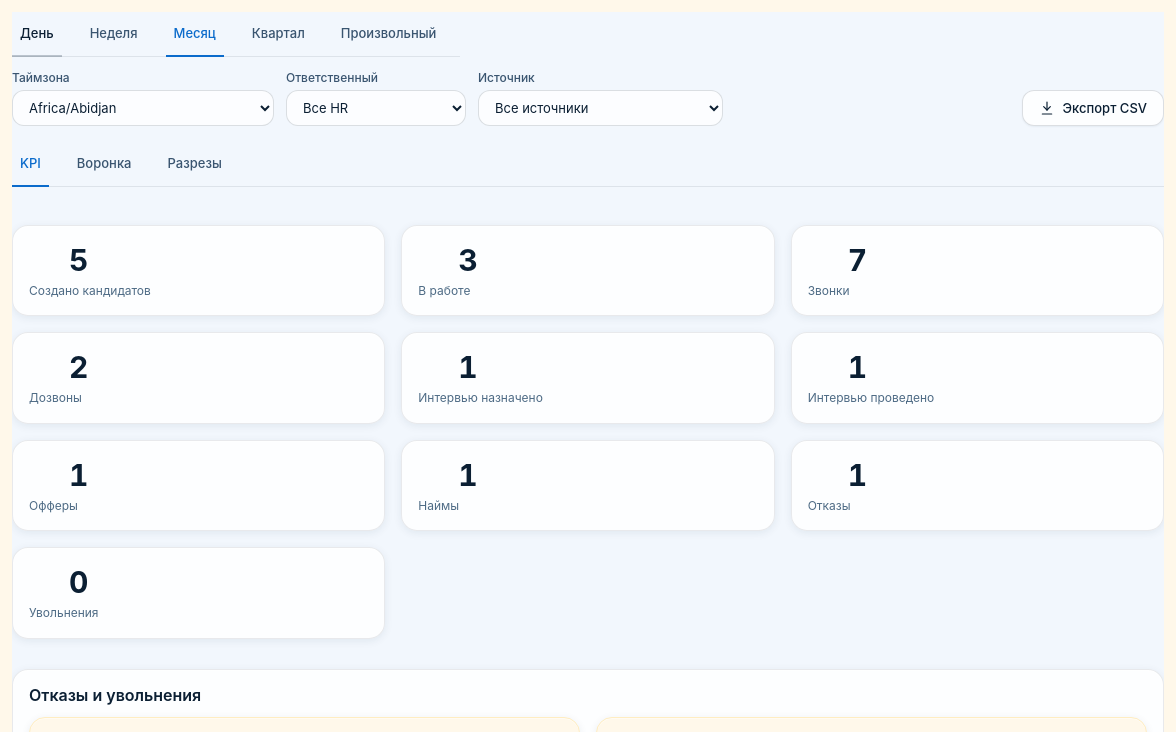
AnalyticsPage › does not fake a download when the export fails
Expected: the text "Создано кандидатов" is shown, 29,283 -> 151,298
Click the button "Экспорт CSV". click: click(1093, 108)
box: 1022,90 -> 1164,126
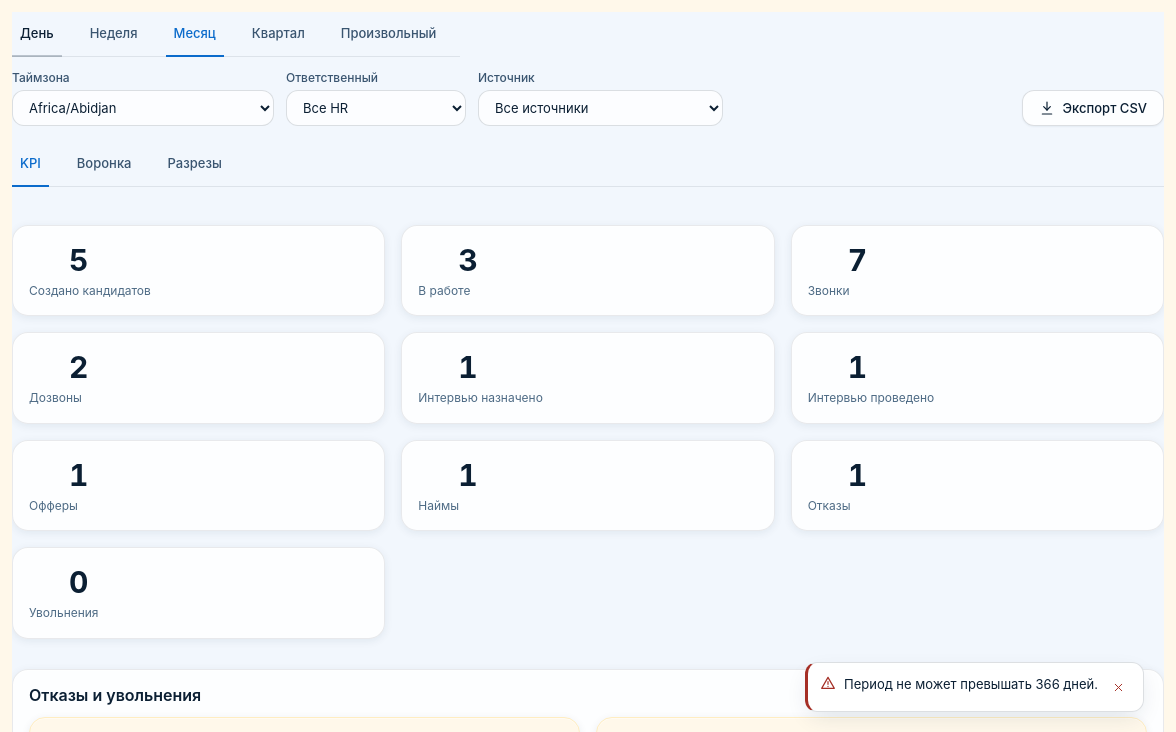
Now the text "Период не может превышать 366 дней." is shown, box 844,675 -> 1098,694
